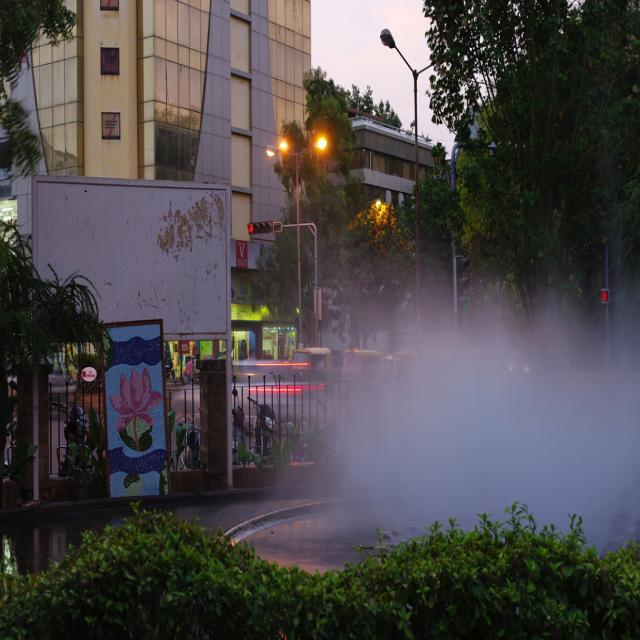traffic light: (246, 220, 276, 235)
